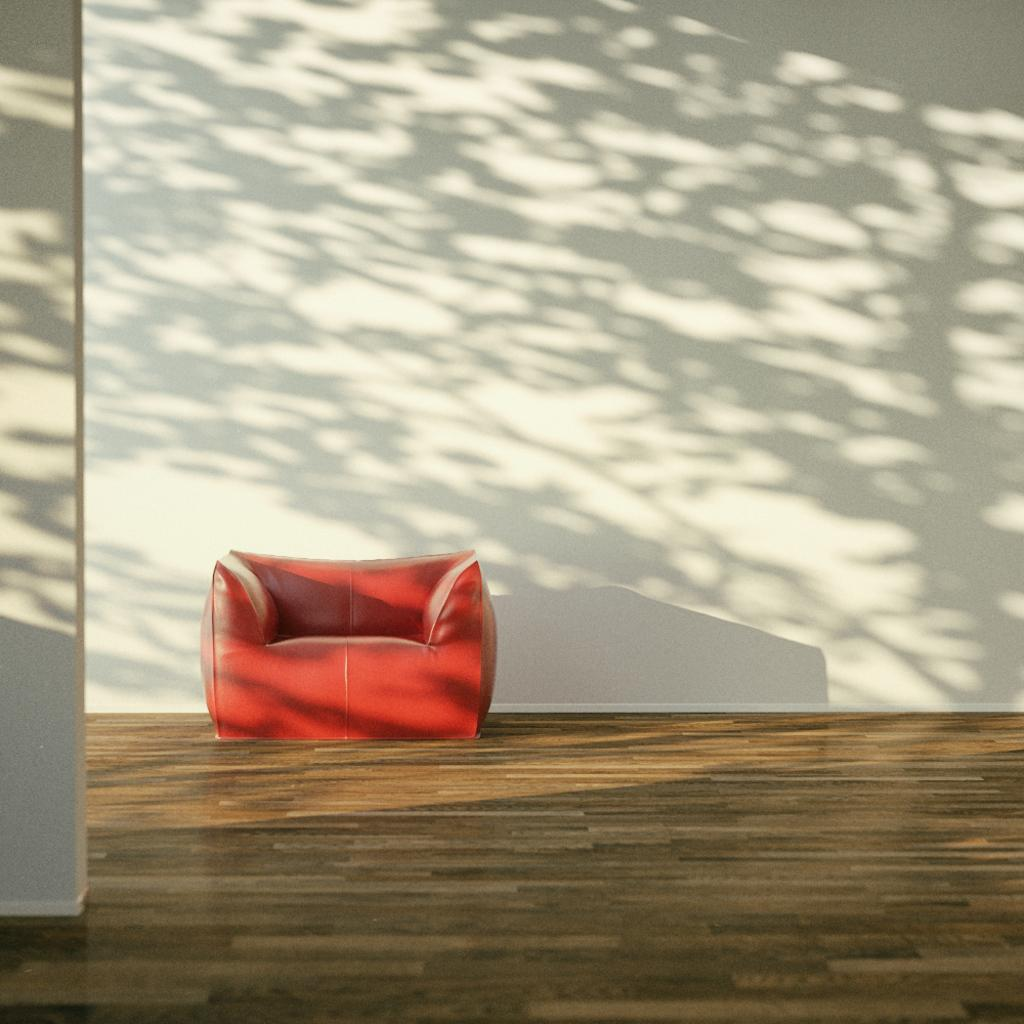Chair: (197, 551, 502, 749)
